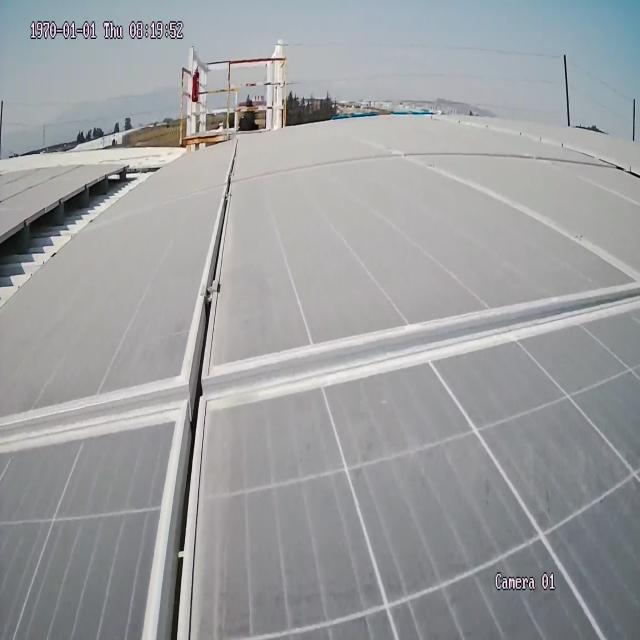interior panel: (1, 136, 636, 639)
outher panel: (0, 155, 183, 314)
